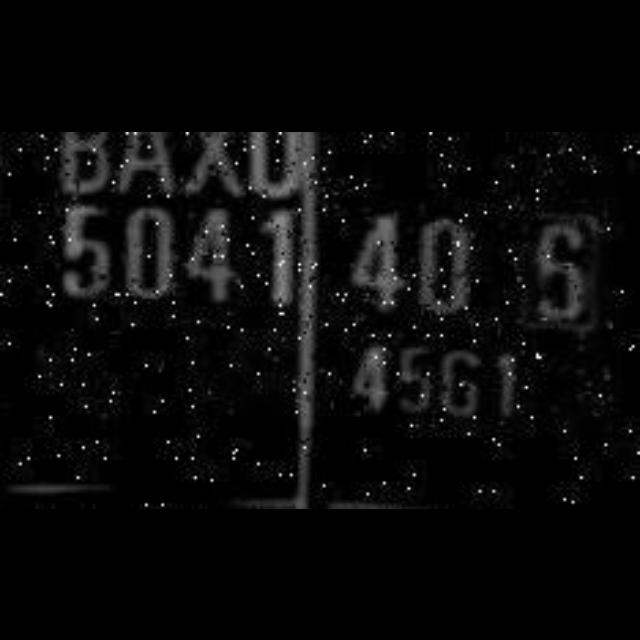0: (414, 210, 478, 320), (122, 202, 182, 302)
1: (259, 203, 301, 314), (491, 346, 525, 424)
4: (347, 206, 409, 314), (186, 198, 242, 300), (348, 339, 390, 409)
5: (528, 211, 590, 325), (55, 202, 118, 302), (396, 338, 432, 416)
a: (117, 131, 179, 201)
b: (59, 132, 118, 194)
g: (440, 346, 482, 422)
o: (249, 131, 303, 193)
x: (180, 132, 248, 198)
